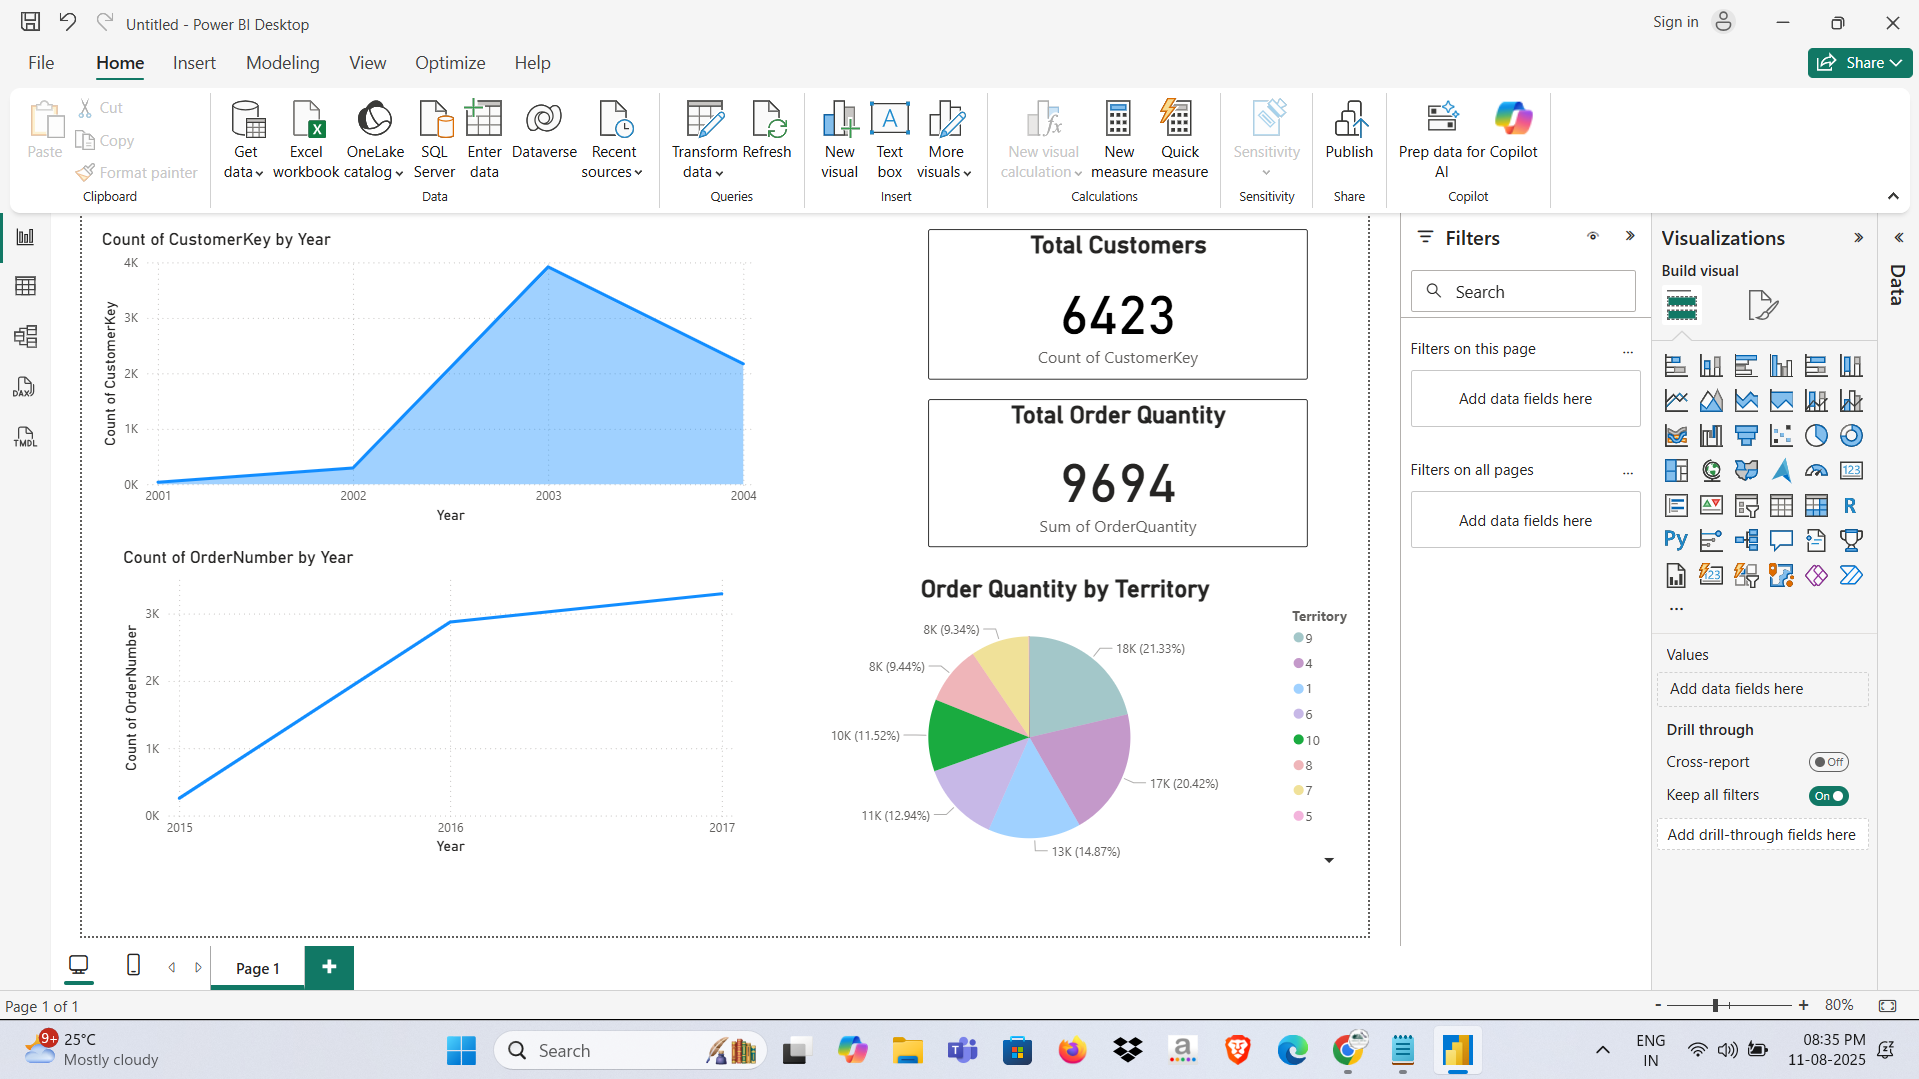

The dashboard page shown, as its layout file describes it:
{"tool":"powerbi","page":{"name":"Page 1","canvas":[1280,720],"ordinal":0},"visuals":[{"type":"lineChart","fields":{"Category":["gold extsales.OrderDate.Variation.Date Hierarchy.Year","gold extsales.OrderDate.Variation.Date Hierarchy.Quarter","gold extsales.OrderDate.Variation.Date Hierarchy.Month","gold extsales.OrderDate.Variation.Date Hierarchy.Day"],"Y":["CountNonNull(gold extsales.OrderNumber)"]},"box":[35.7,332.1,618.9,311.5],"z":0},{"type":"card","title":"Total Customers","fields":{"Values":["CountNonNull(gold extsales.CustomerKey)"]},"box":[842.5,16.5,377.4,149.6],"z":1000},{"type":"areaChart","fields":{"Category":["gold extsales.StockDate.Variation.Date Hierarchy.Year","gold extsales.StockDate.Variation.Date Hierarchy.Quarter","gold extsales.StockDate.Variation.Date Hierarchy.Month","gold extsales.StockDate.Variation.Date Hierarchy.Day"],"Y":["CountNonNull(gold extsales.CustomerKey)"]},"box":[15.1,16.5,661.4,297.8],"z":1001},{"type":"card","title":"Total Order Quantity","fields":{"Values":["Sum(gold extsales.OrderQuantity)"]},"box":[842.5,185.2,377.4,146.8],"z":1002},{"type":"pieChart","fields":{"Category":["gold extsales.TerritoryKey"],"Y":["Sum(gold extsales.OrderQuantity)"]},"box":[676.5,359.5,603.8,297.8],"z":1003}]}

Visuals, with their boxes on the page's 1280x720 design canvas (x1, y1, x2, y2). These are canvas units, not pixel positions in the 1919x1079 screenshot, which may show the page scaled, cropped or inside an application window:
lineChart - gold extsales.OrderDate.Variation.Date Hierarchy.Year x gold extsales.OrderDate.Variation.Date Hierarchy.Quarter: left=36, top=332, right=655, bottom=644
"Total Customers" card: left=842, top=16, right=1220, bottom=166
areaChart - gold extsales.StockDate.Variation.Date Hierarchy.Year x gold extsales.StockDate.Variation.Date Hierarchy.Quarter: left=15, top=16, right=676, bottom=314
"Total Order Quantity" card: left=842, top=185, right=1220, bottom=332
pieChart - gold extsales.TerritoryKey x Sum(gold extsales.OrderQuantity): left=676, top=360, right=1280, bottom=657
